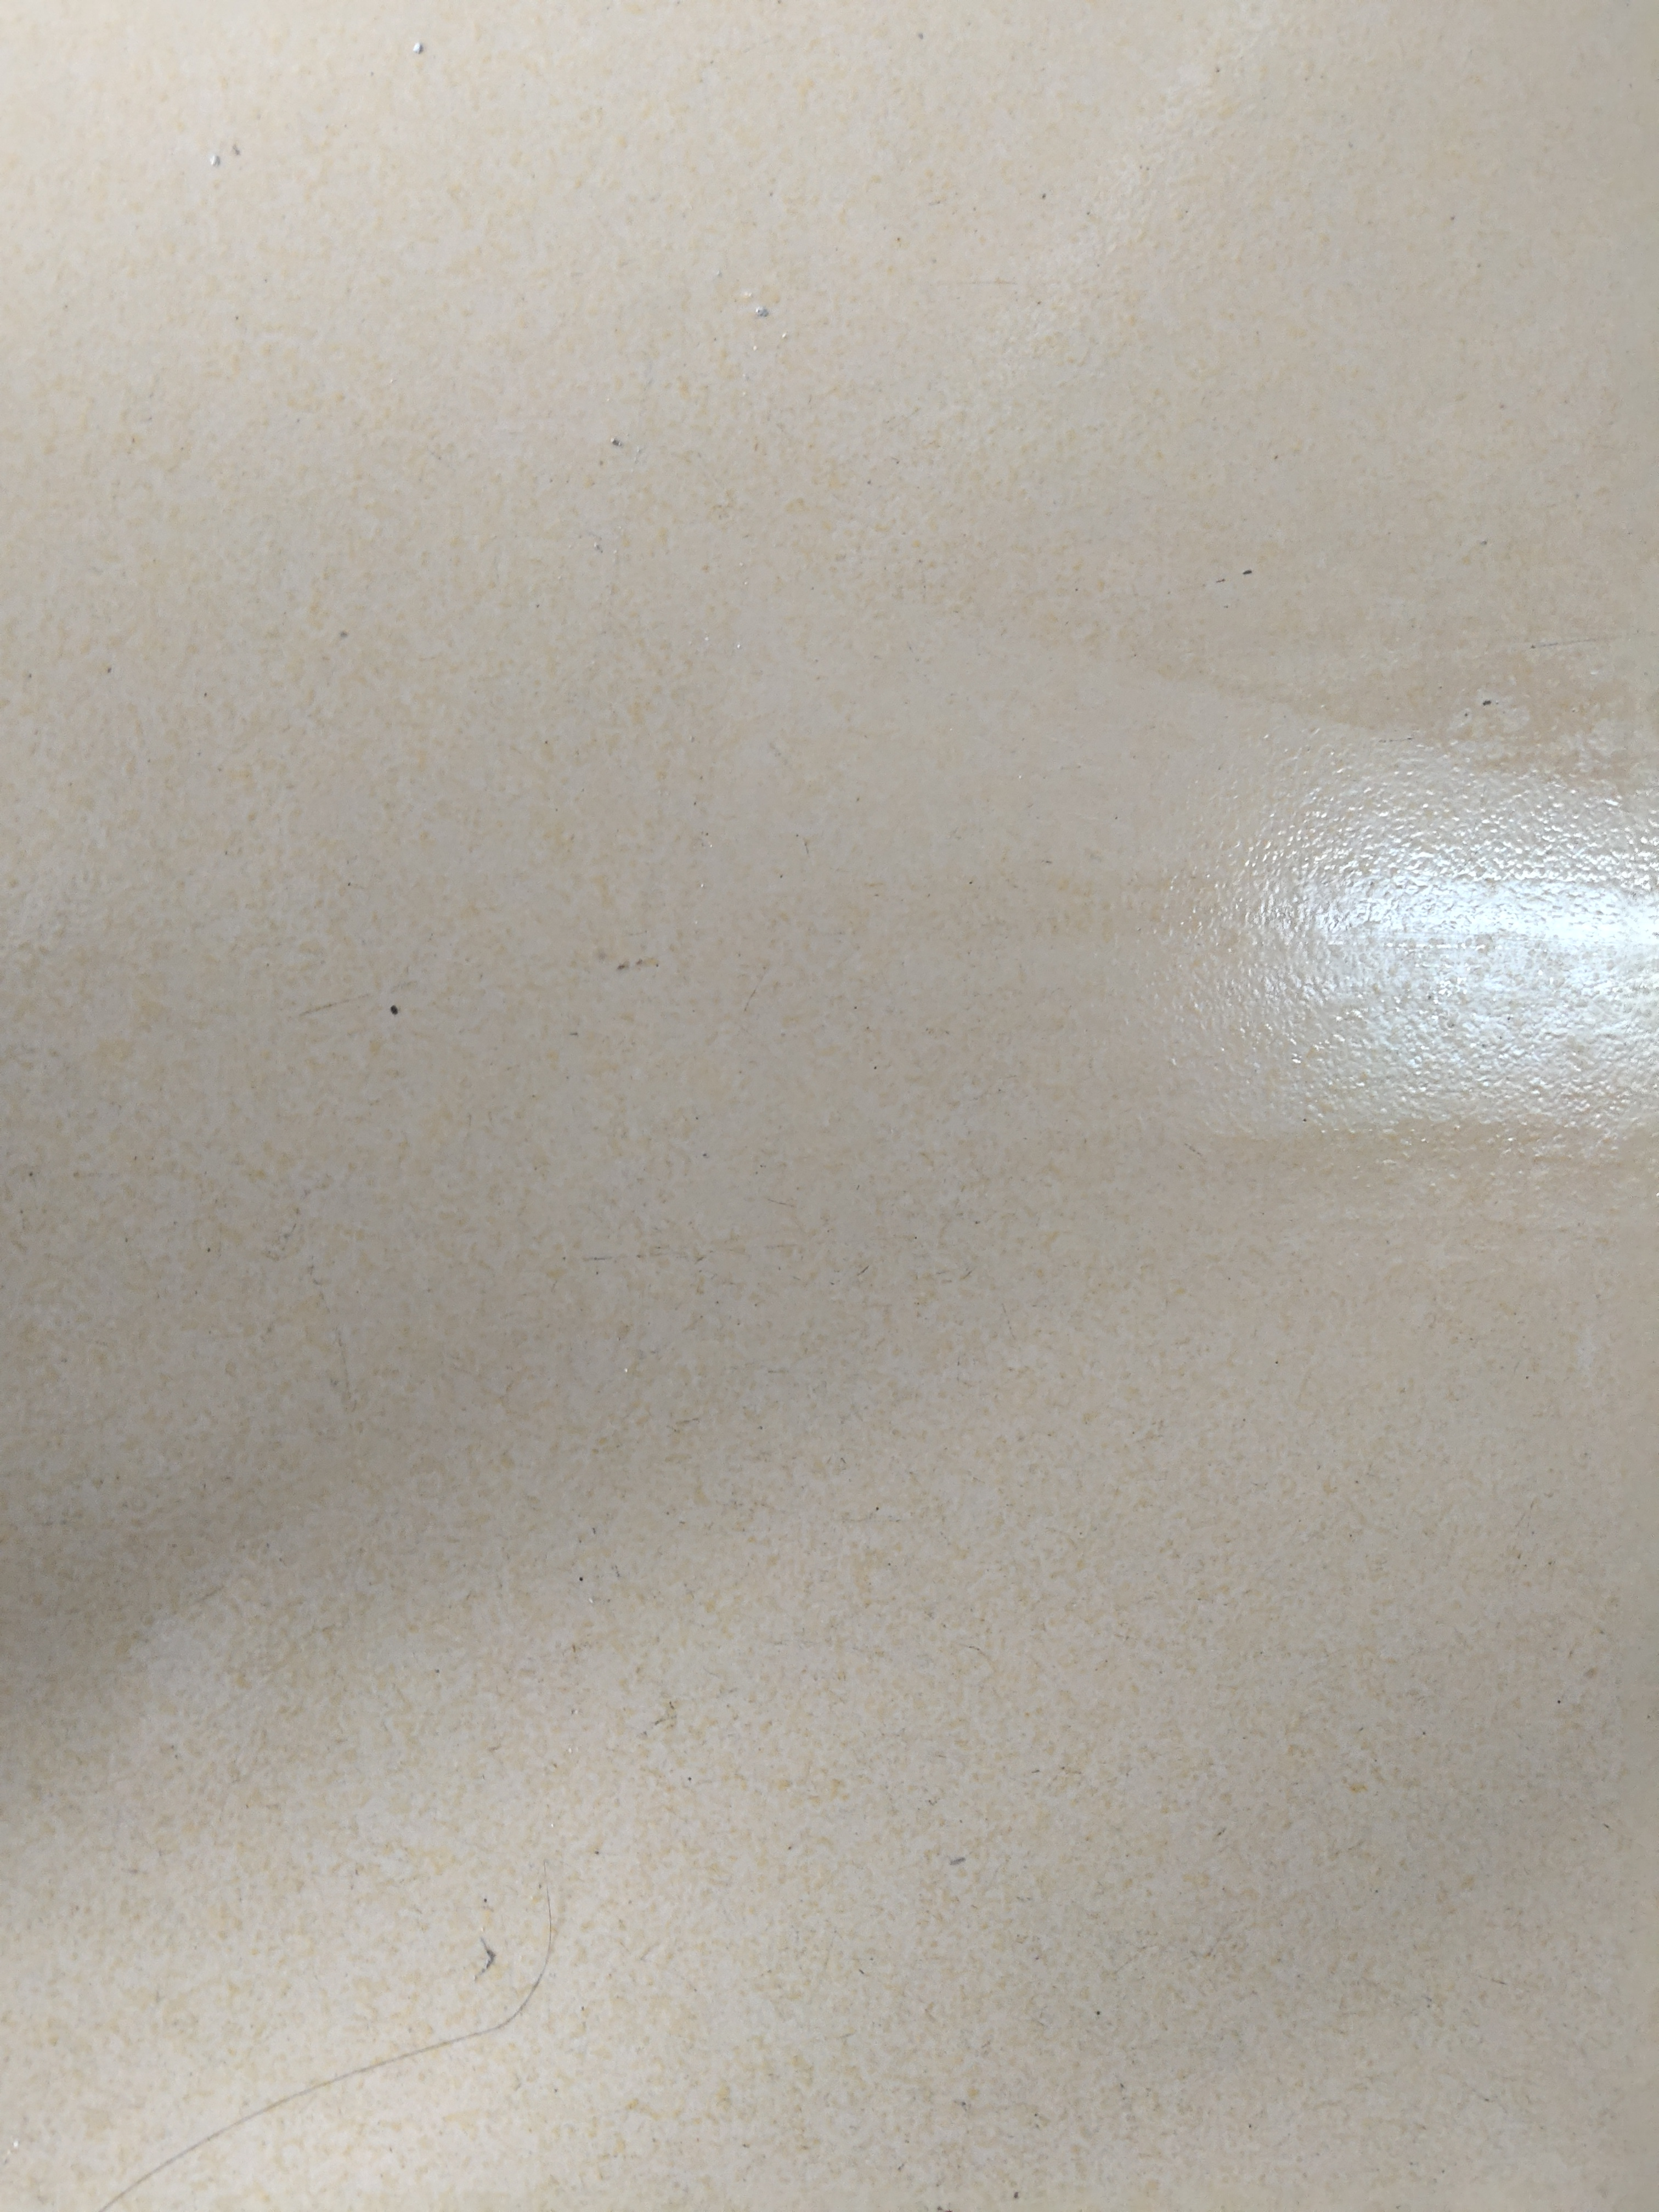reflection: (1249, 806, 1659, 1118)
